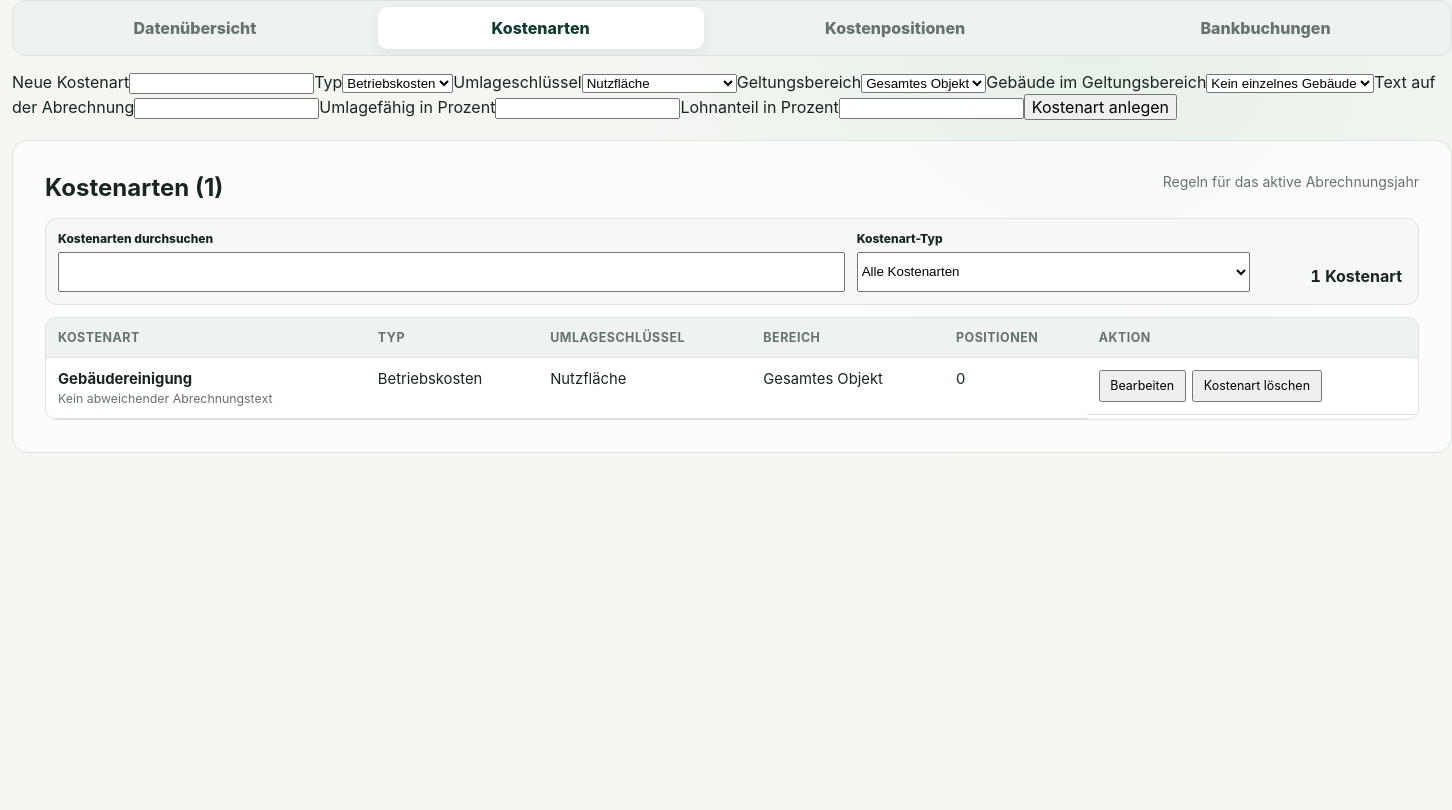
Test case: WorkflowRoute › verknüpft eine Kostenposition in der Oberfläche mit ihrer Bankbuchung
Click the button "Kostenpositionen" at (895,28), box left=711, top=7, right=1079, bottom=49
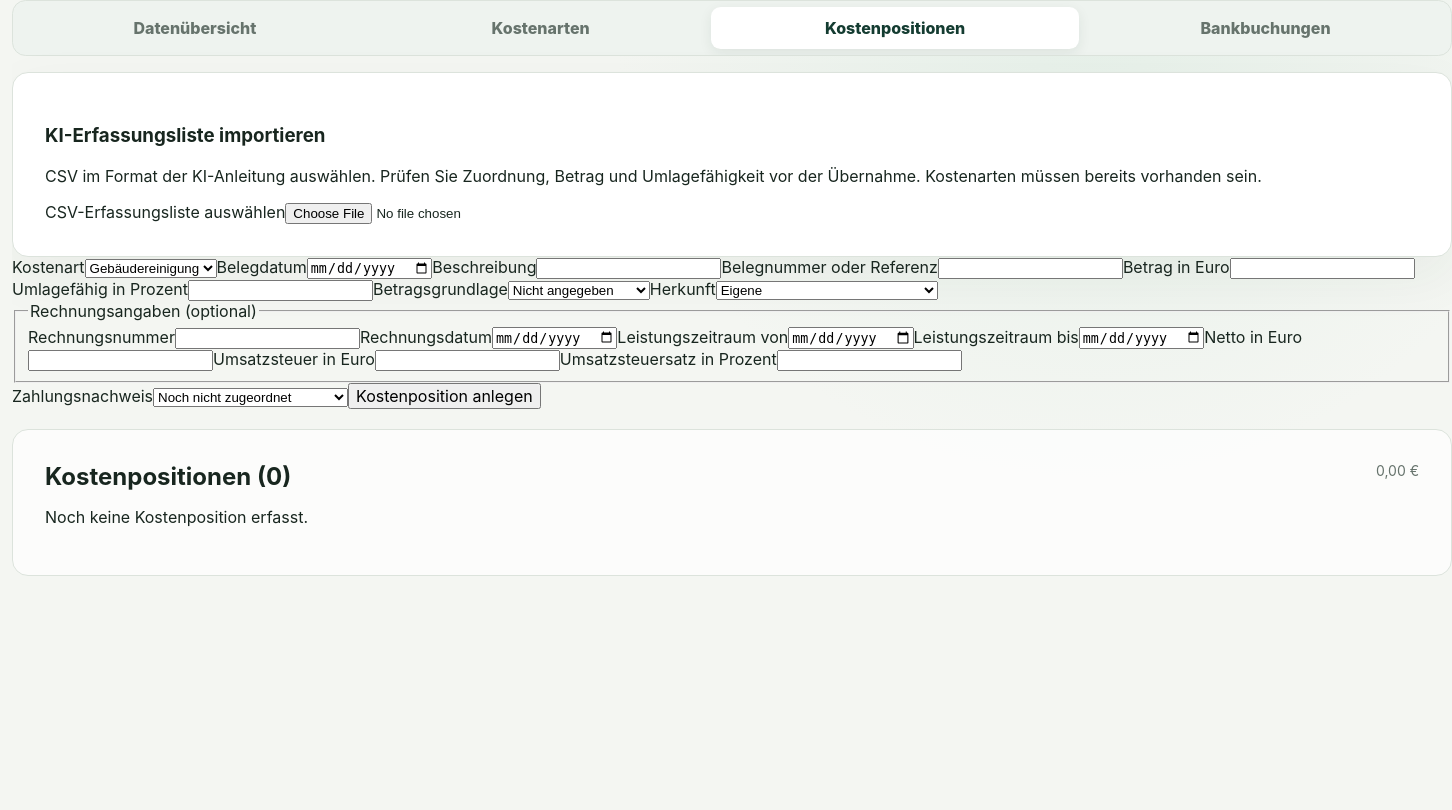
Type "1000,99" into the field labelled "Betrag in Euro" at (1322,268), box left=1230, top=258, right=1414, bottom=279
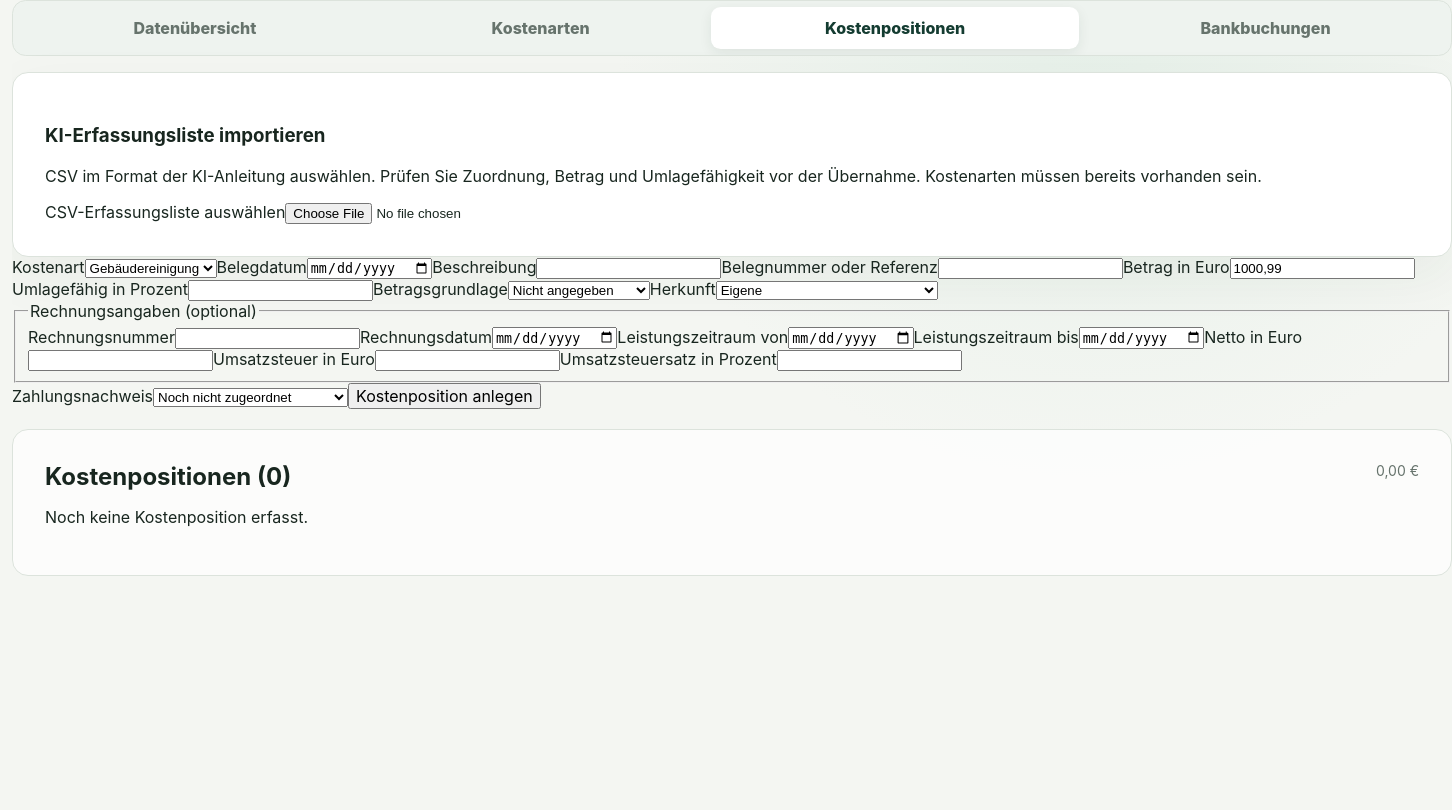
Select "Mit Bankbuchung verknüpfen" in the dropdown labelled "Zahlungsnachweis" at (250,397), box left=153, top=388, right=348, bottom=407
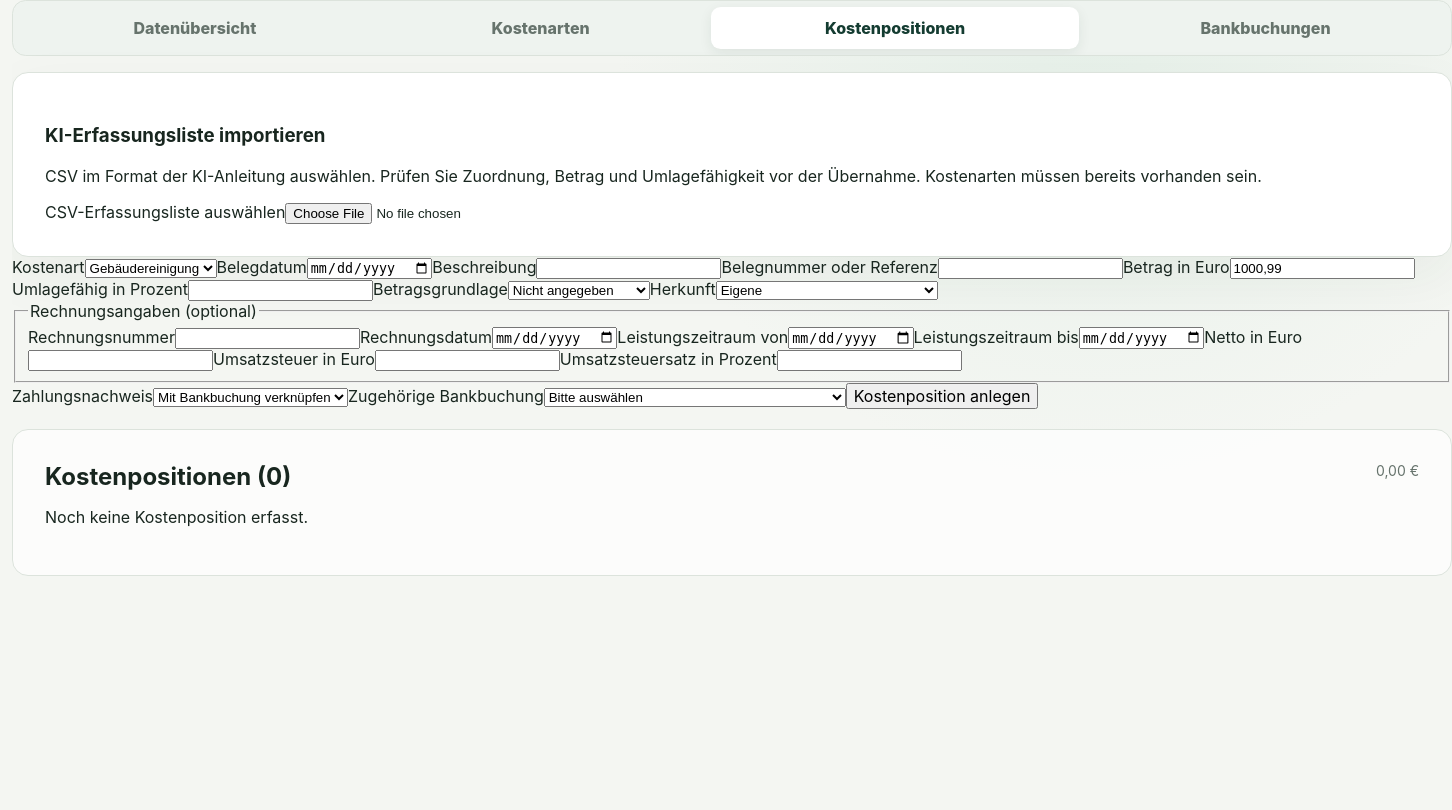
Select "2026-03-16 · Fiktiver Dienstleister · -1.000,99 €" in the dropdown labelled "Zugehörige Bankbuchung" at (695,397), box left=544, top=388, right=846, bottom=407
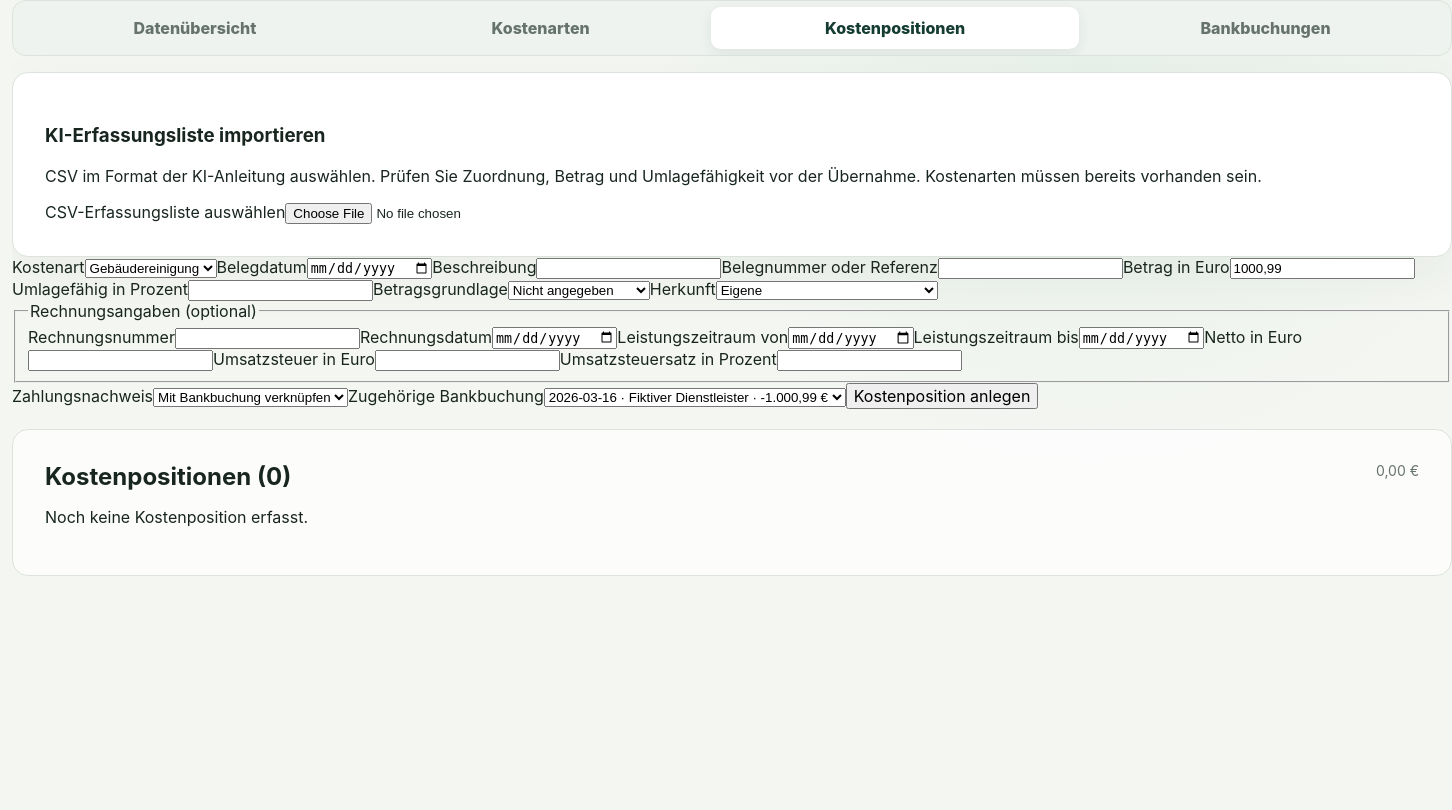
Click the button "Kostenposition anlegen" at (942,396), box left=846, top=383, right=1038, bottom=409
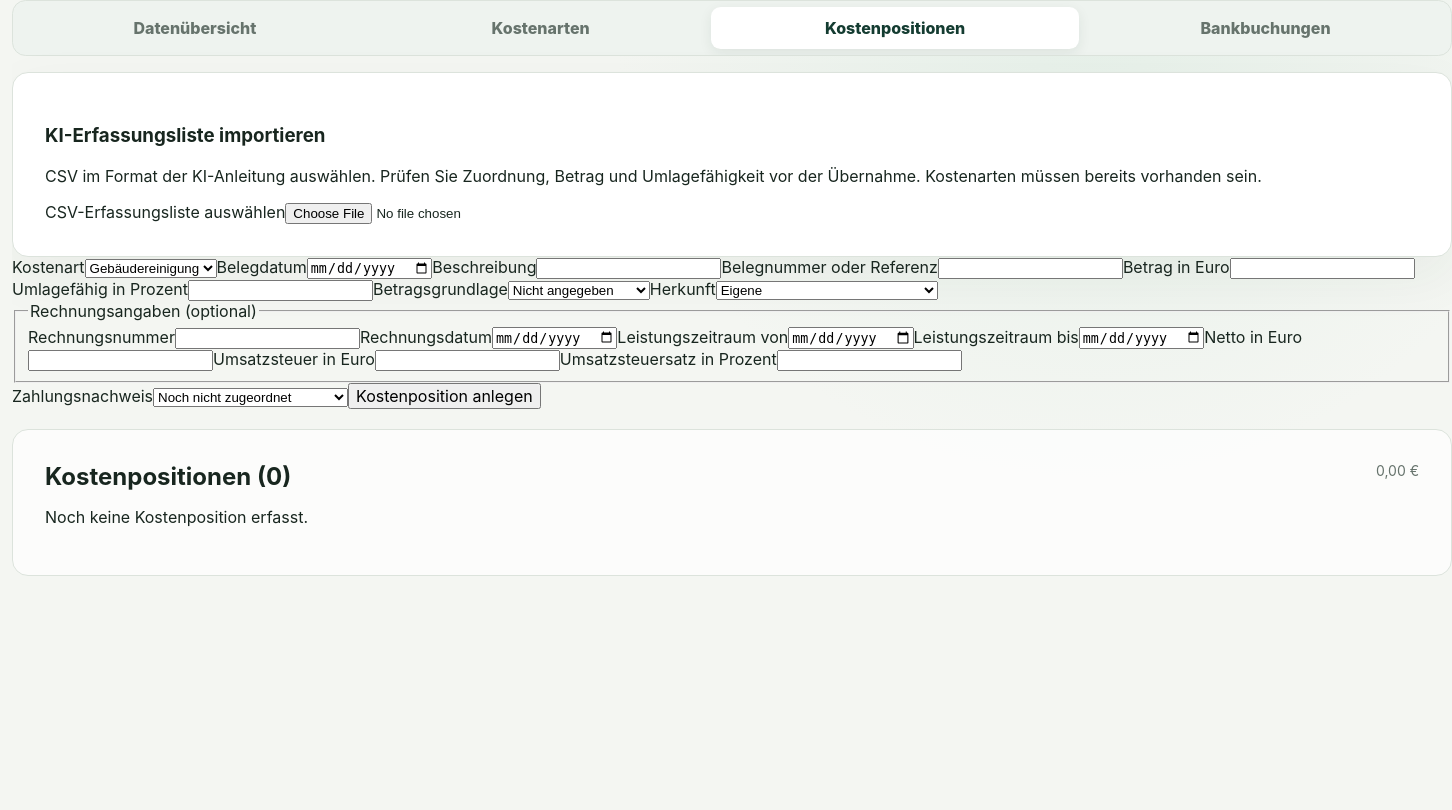
expect the dropdown labelled "Zahlungsnachweis" shows "Noch nicht zugeordnet": met, box left=153, top=388, right=348, bottom=407
expect the text labelled "Zugehörige Bankbuchung" is gone: met
